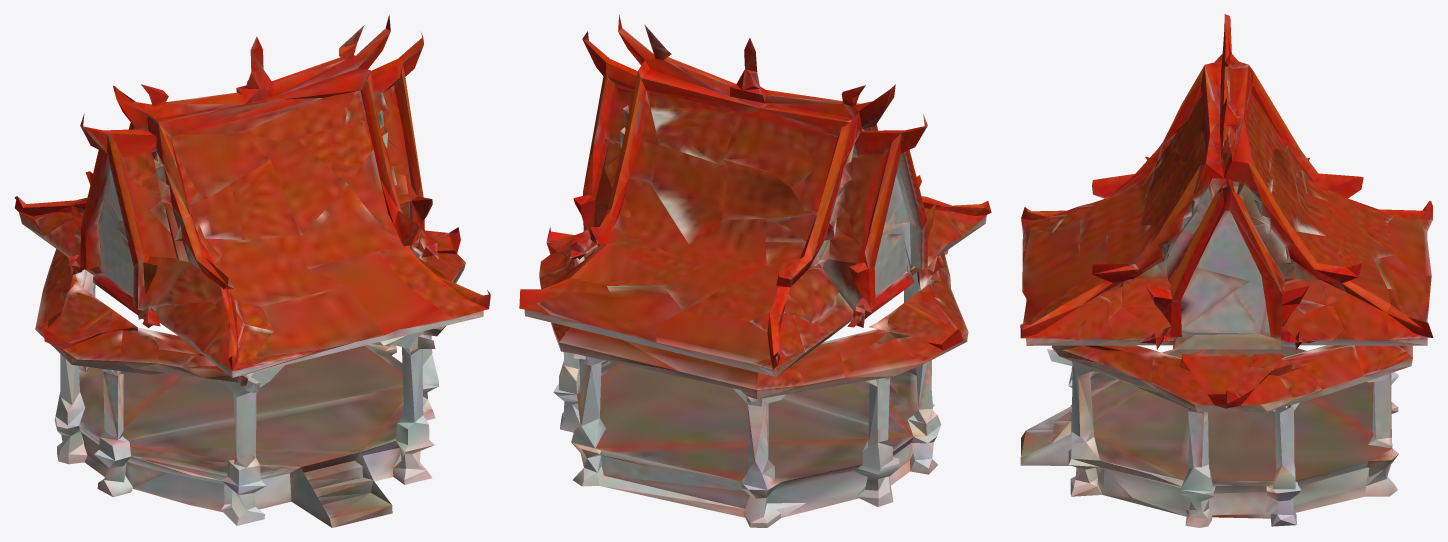
The model's file is temple_sala_low.glb.
3 views of the same model, side by side, from view 1: azimuth 30°, elevation 25°; view 2: azimuth 150°, elevation 25°; view 3: azimuth 270°, elevation 25° (orthographic). The views are drawn at different scales.
Visible parts, largest first — view 1: temple_sala; view 2: temple_sala; view 3: temple_sala.
Boxes of the visible parts, bbox=[...] form: temple_sala: bbox=[14, 15, 490, 527]; temple_sala: bbox=[519, 14, 991, 527]; temple_sala: bbox=[1020, 14, 1433, 527].
Size of the model in its own units: 9 by 8.35 by 8.12.
1 material, 1 textured.
